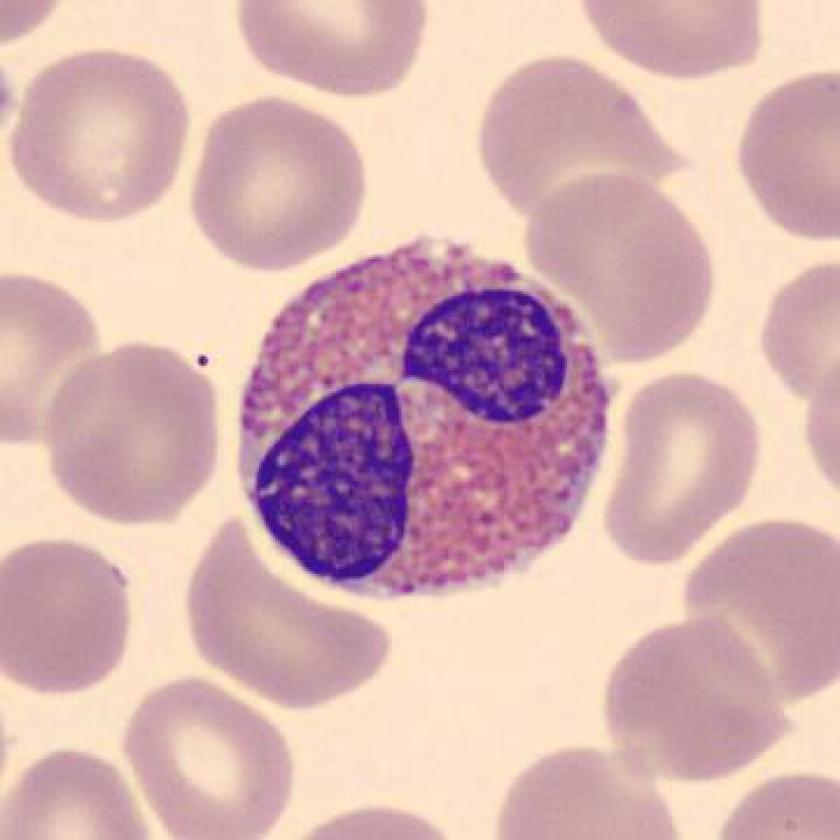eosinophil: (223, 230, 626, 610)
